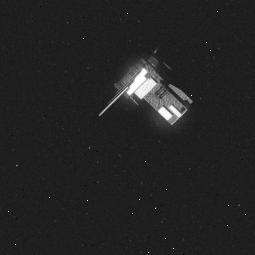soho: (95, 47, 201, 136)
